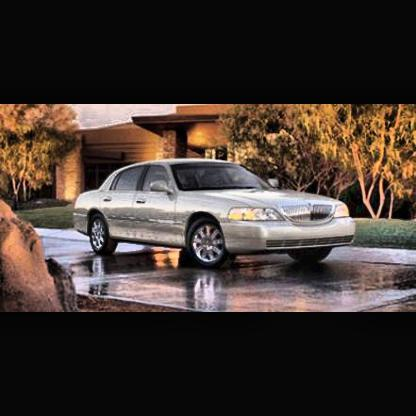Lincoln Town Car Sedan 2011: (72, 157, 357, 271)
